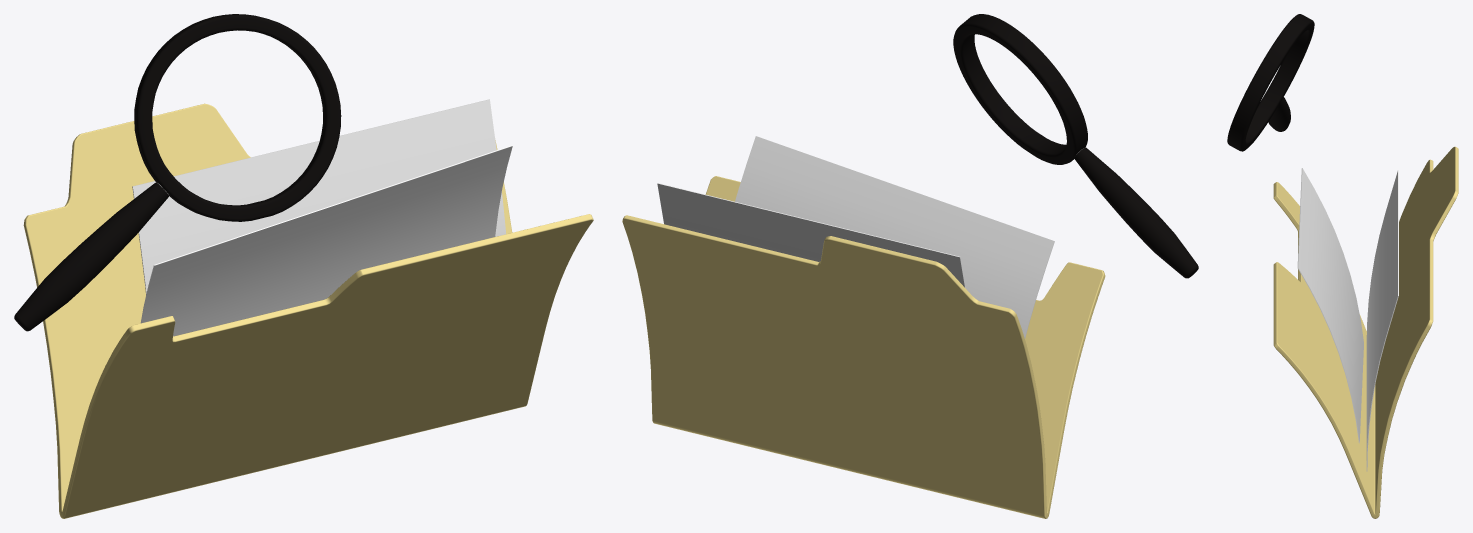
3 views of the same model, side by side, from view 1: azimuth 30°, elevation 25°; view 2: azimuth 150°, elevation 25°; view 3: azimuth 270°, elevation 25° (orthographic). The views are drawn at different scales.
Visible parts, largest first — view 1: Folder, Magnifying_Glass (1); view 2: Folder, Magnifying_Glass (1); view 3: Folder, Magnifying_Glass (1).
Part boxes in pixels (<box>): Folder: <box>23,99,593,518</box>; Magnifying_Glass (1): <box>14,14,341,331</box>; Folder: <box>622,136,1105,518</box>; Magnifying_Glass (1): <box>953,14,1198,278</box>; Folder: <box>1273,146,1458,518</box>; Magnifying_Glass (1): <box>1227,14,1314,151</box>.
Bounding box in the file's own units: 14.19 × 12.23 × 6.85.
Materials: 1 (1 with a texture image).
